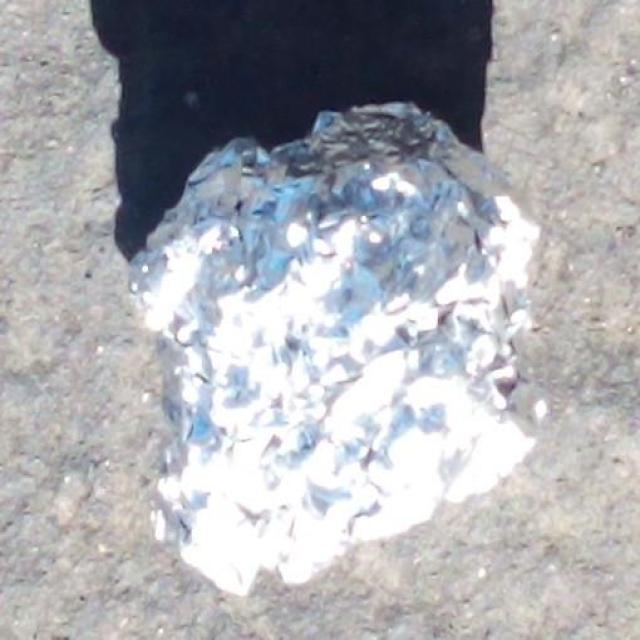litter: (123, 108, 545, 587)
